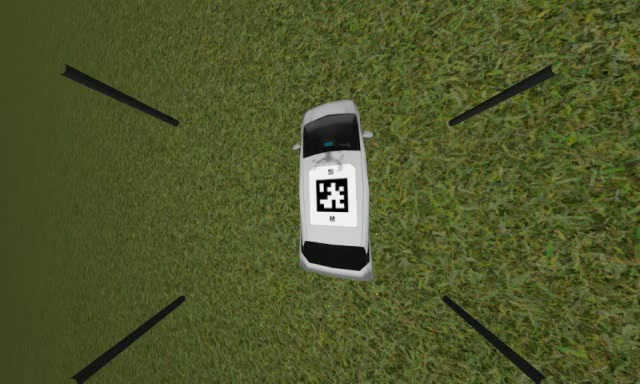Car: (293, 100, 377, 284)
Landing Pad: (308, 164, 358, 228)
